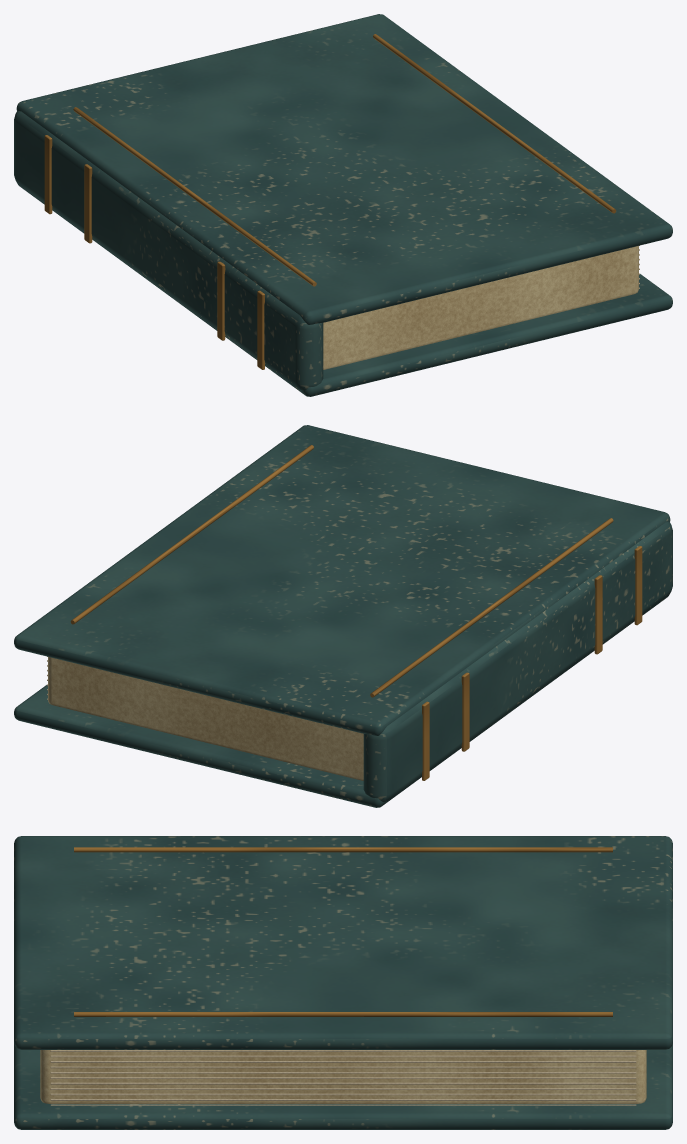
File: BookBlueDetail.fbx
3 views of the same model, one above another, from view 1: azimuth 30°, elevation 25°; view 2: azimuth 150°, elevation 25°; view 3: azimuth 270°, elevation 25° (orthographic). The views are drawn at different scales.
Visible parts, largest first — view 1: BookBlueDetail_BookBlue, BookBlueDetail_Paper, BookBlueDetail_Brass; view 2: BookBlueDetail_BookBlue, BookBlueDetail_Paper, BookBlueDetail_Brass; view 3: BookBlueDetail_BookBlue, BookBlueDetail_Paper, BookBlueDetail_Linen, BookBlueDetail_Brass.
Part boxes in pixels (bbox=[...]): BookBlueDetail_BookBlue: bbox=[14, 14, 672, 396]; BookBlueDetail_Paper: bbox=[323, 246, 638, 369]; BookBlueDetail_Brass: bbox=[44, 34, 616, 369]; BookBlueDetail_BookBlue: bbox=[14, 425, 672, 807]; BookBlueDetail_Paper: bbox=[48, 657, 363, 780]; BookBlueDetail_Brass: bbox=[70, 445, 642, 780]; BookBlueDetail_BookBlue: bbox=[14, 836, 672, 1129]; BookBlueDetail_Paper: bbox=[40, 1050, 646, 1103]; BookBlueDetail_Linen: bbox=[50, 1050, 636, 1105]; BookBlueDetail_Brass: bbox=[74, 847, 612, 1016].
Bounding box in the file's own units: 32.65 × 7.48 × 44.
